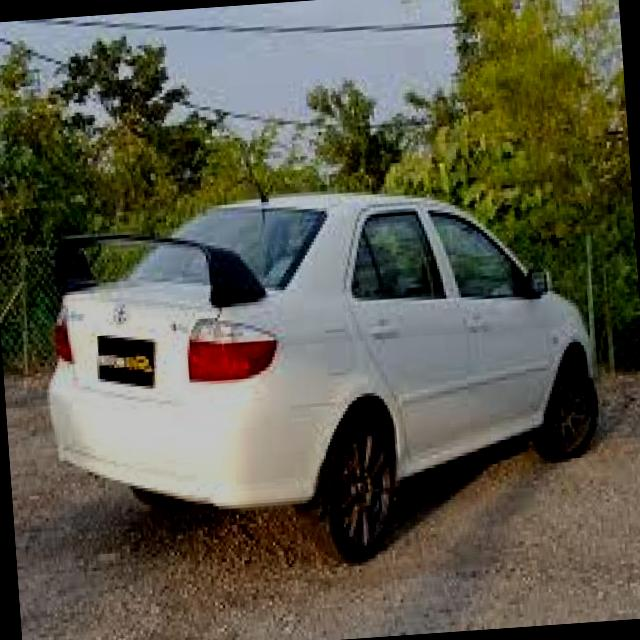ToyotaVios: (34, 170, 610, 582)
